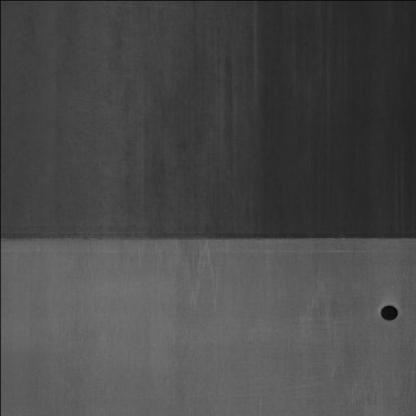punching_hole: (370, 298, 403, 324)
welding_line: (0, 230, 413, 248)
